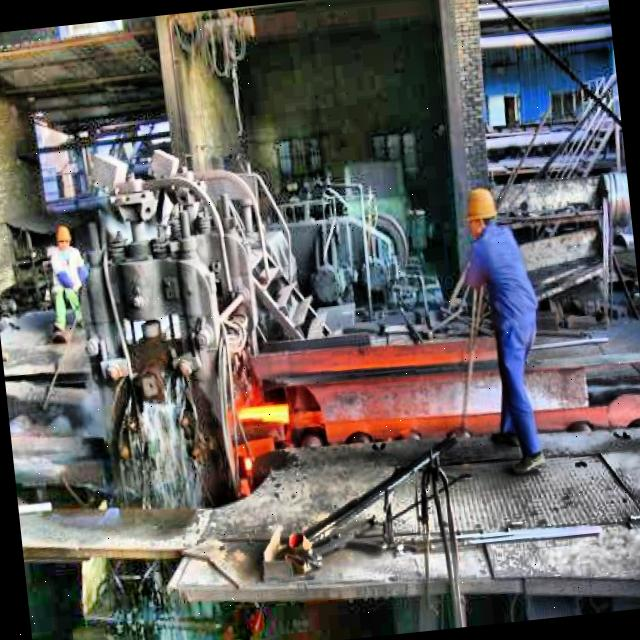helmet: (460, 180, 503, 246), (51, 218, 74, 256)
